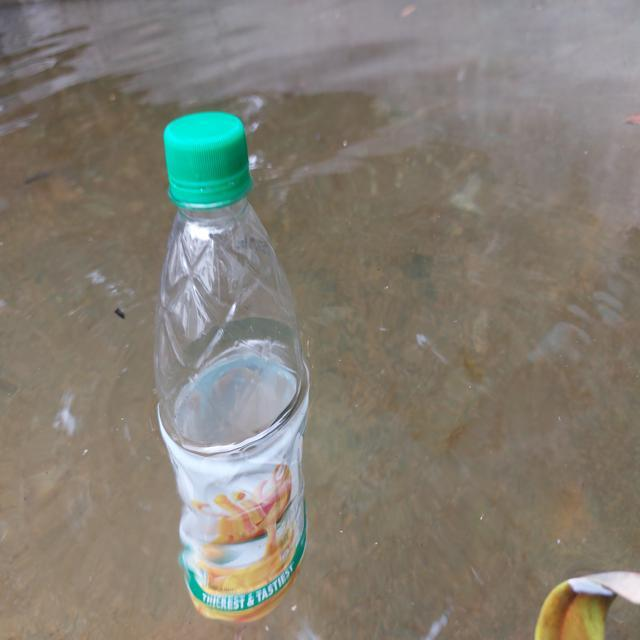leaf: (522, 557, 640, 640)
waterbottle: (155, 102, 313, 620)
